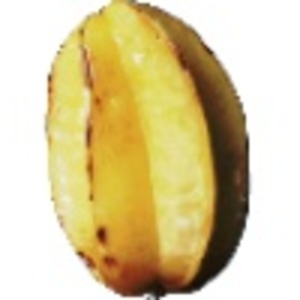carambola: (43, 1, 250, 300)
